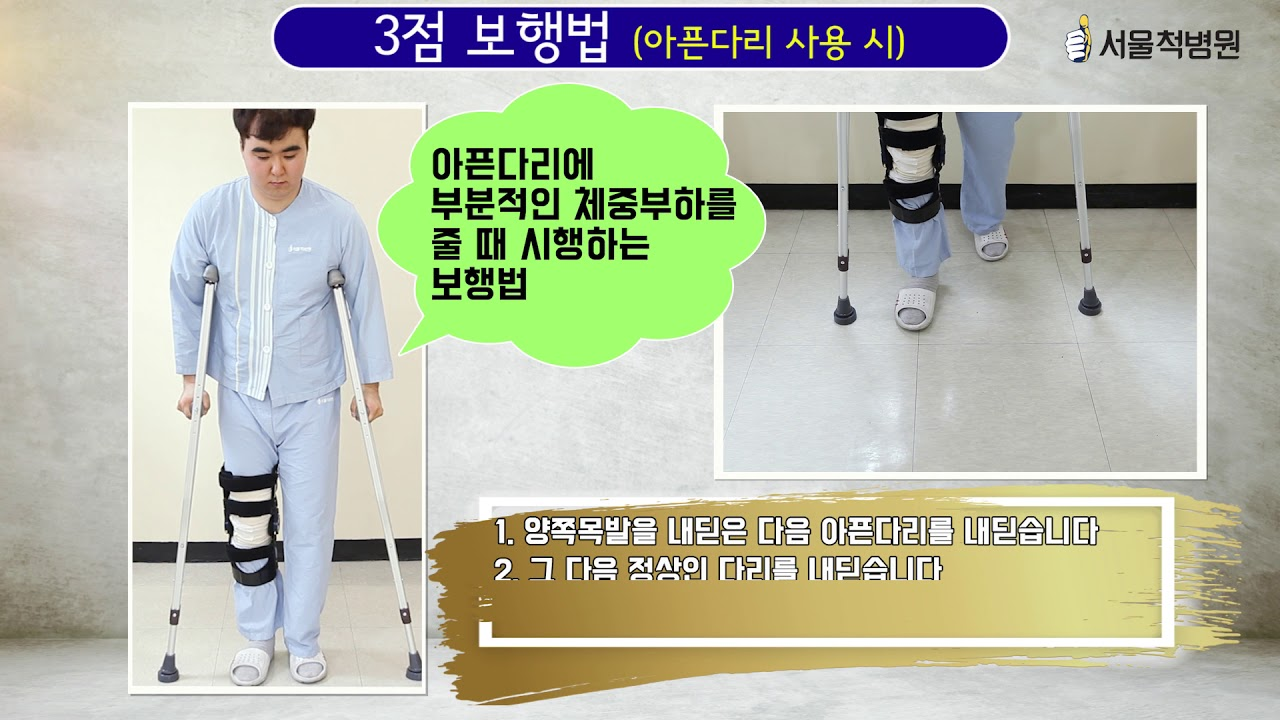crutches: (160, 114, 418, 684)
